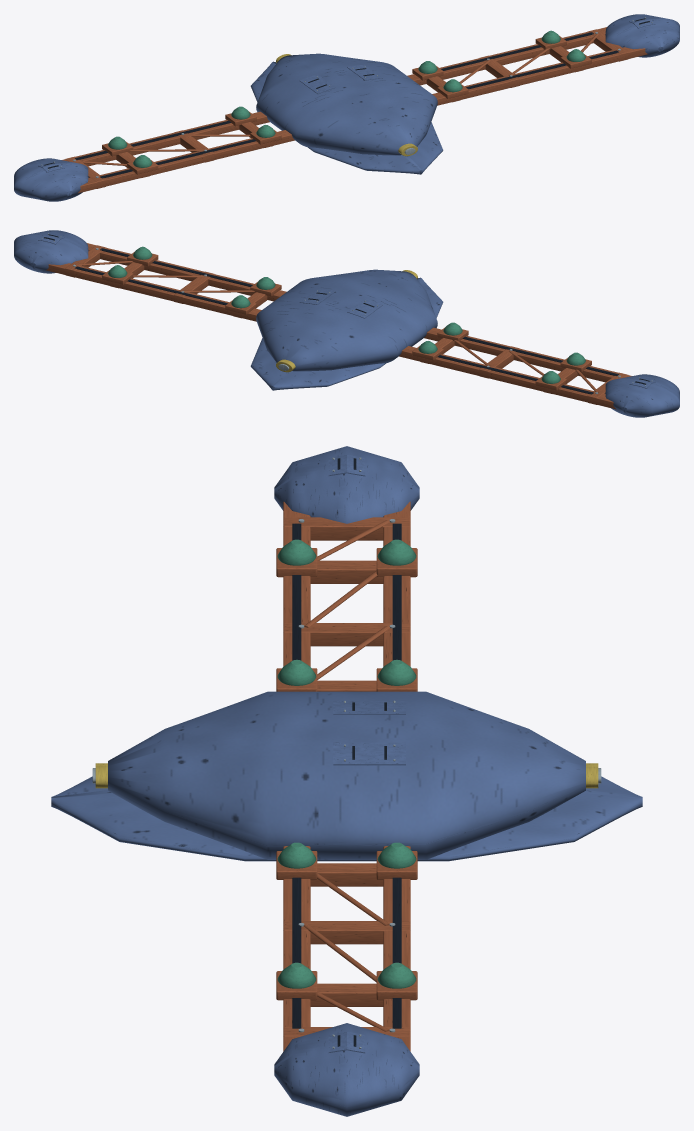
3 renders of one model, top to bottom at view 1: azimuth 30°, elevation 25°; view 2: azimuth 150°, elevation 25°; view 3: azimuth 270°, elevation 25°, orthographic. The views are drawn at different scales.
Parts seen in each view (by area): view 1: PrimaryHullAndArmour, ServiceAssemblies; view 2: PrimaryHullAndArmour, ServiceAssemblies; view 3: PrimaryHullAndArmour, ServiceAssemblies.
Boxes of the visible parts, left/top/right/bottom form: PrimaryHullAndArmour: left=14, top=14, right=679, bottom=201; ServiceAssemblies: left=38, top=17, right=655, bottom=193; PrimaryHullAndArmour: left=14, top=230, right=679, bottom=417; ServiceAssemblies: left=38, top=233, right=655, bottom=409; PrimaryHullAndArmour: left=51, top=446, right=642, bottom=1116; ServiceAssemblies: left=283, top=455, right=410, bottom=1053.
Bounding box in the file's own units: 6.76 × 0.4856 × 2.6.
Materials: 1 (1 with a texture image).
